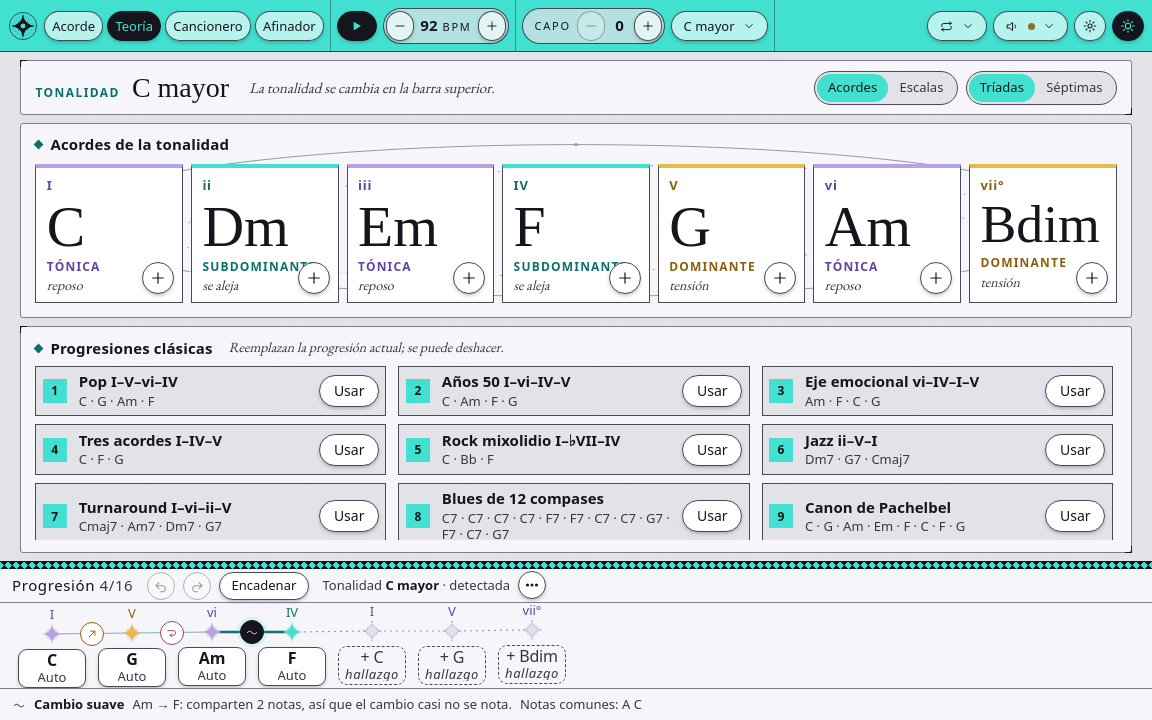
Teoría · Escalas › a pentatonic has five positions, and choosing one dims the rest of the neck
Click the button "Escalas" at [921, 88], box [888, 74, 955, 102]
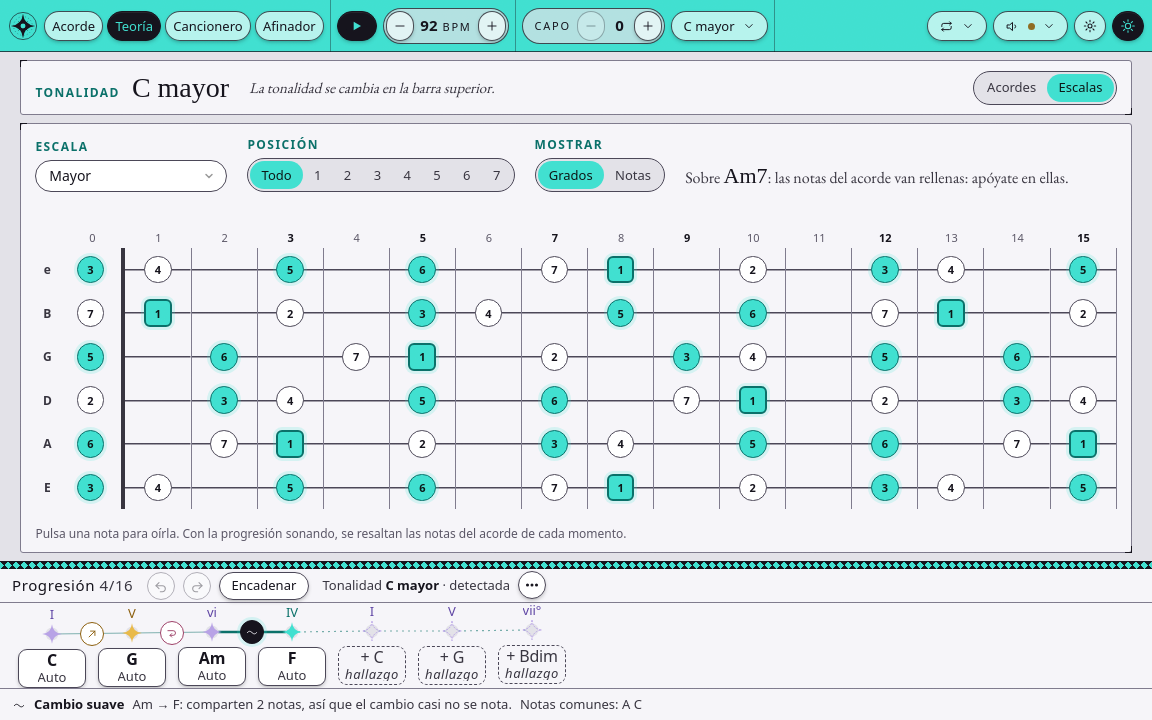
Select "Pentatónica menor" in the dropdown labelled "Escala" at [131, 176], box [35, 160, 227, 192]
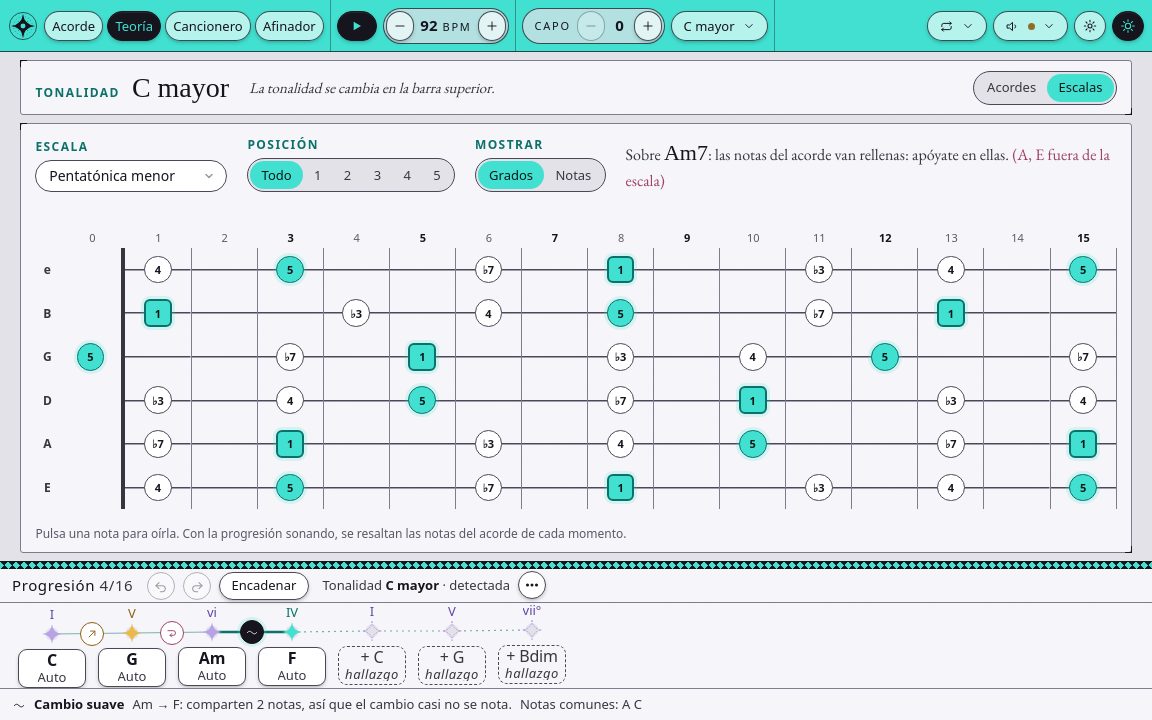
Check: the buttons read "Todo", "1", "2", "3", "4", "5", in this order
Click the button "3" at [377, 175], box [362, 161, 392, 189]
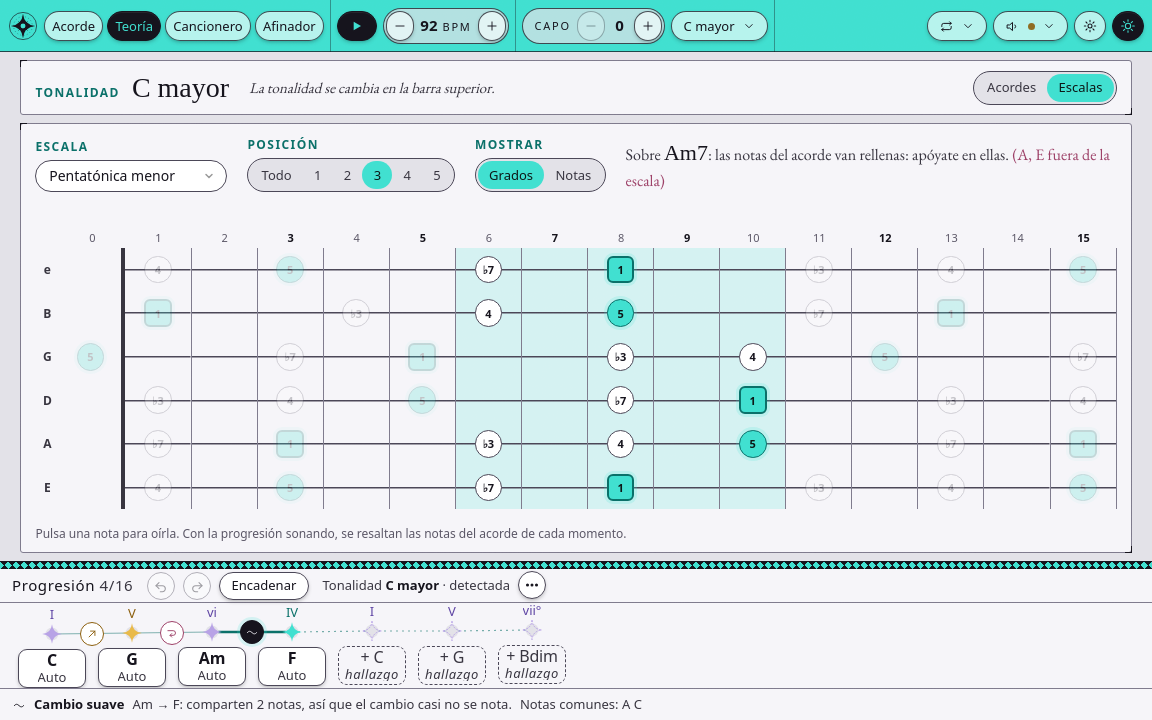
Check: the 1st button with class "is-dim" is shown, box [144, 256, 172, 283]
Check: the 1st element with class "in-box" is shown, box [456, 248, 522, 291]
